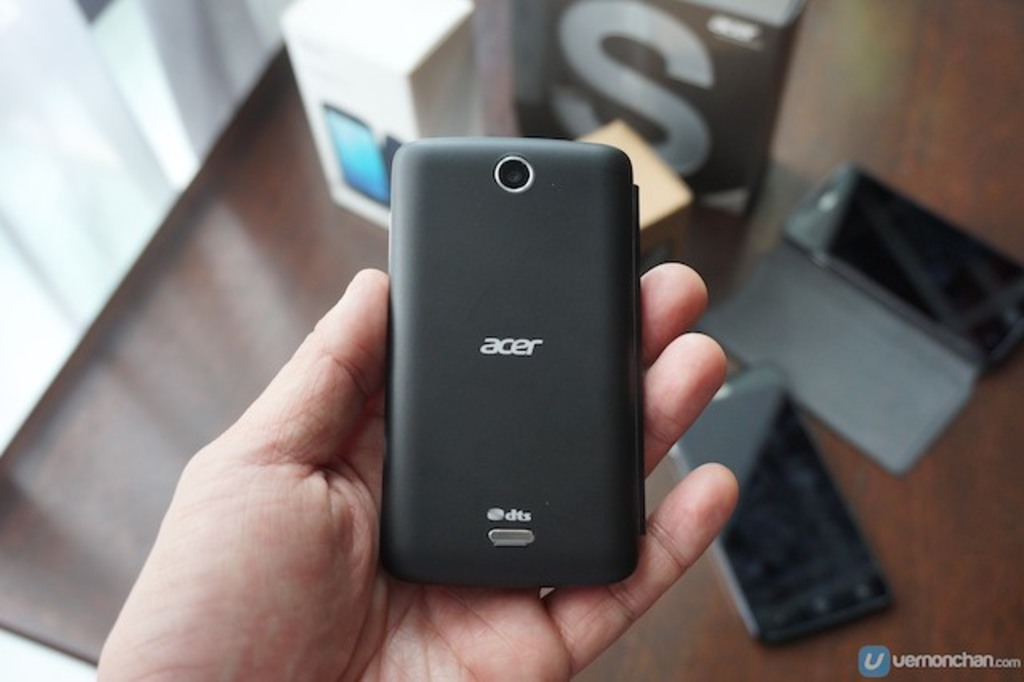Mobile-phone: (373, 133, 656, 594), (669, 357, 898, 650), (779, 158, 1022, 373), (325, 96, 389, 213)
